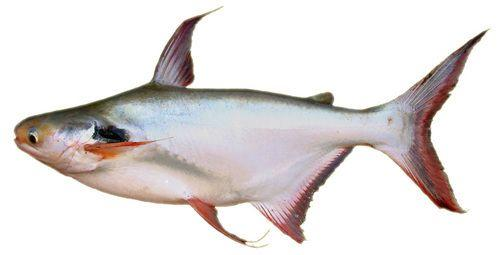Pangasius: (12, 3, 495, 255)
